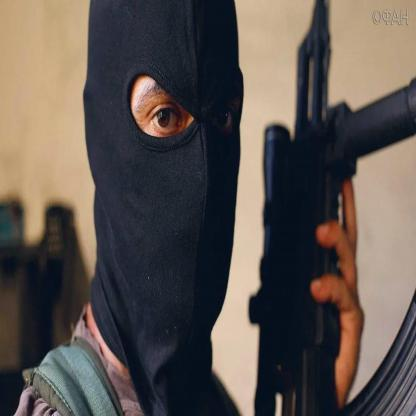rifle: (248, 2, 416, 416)
